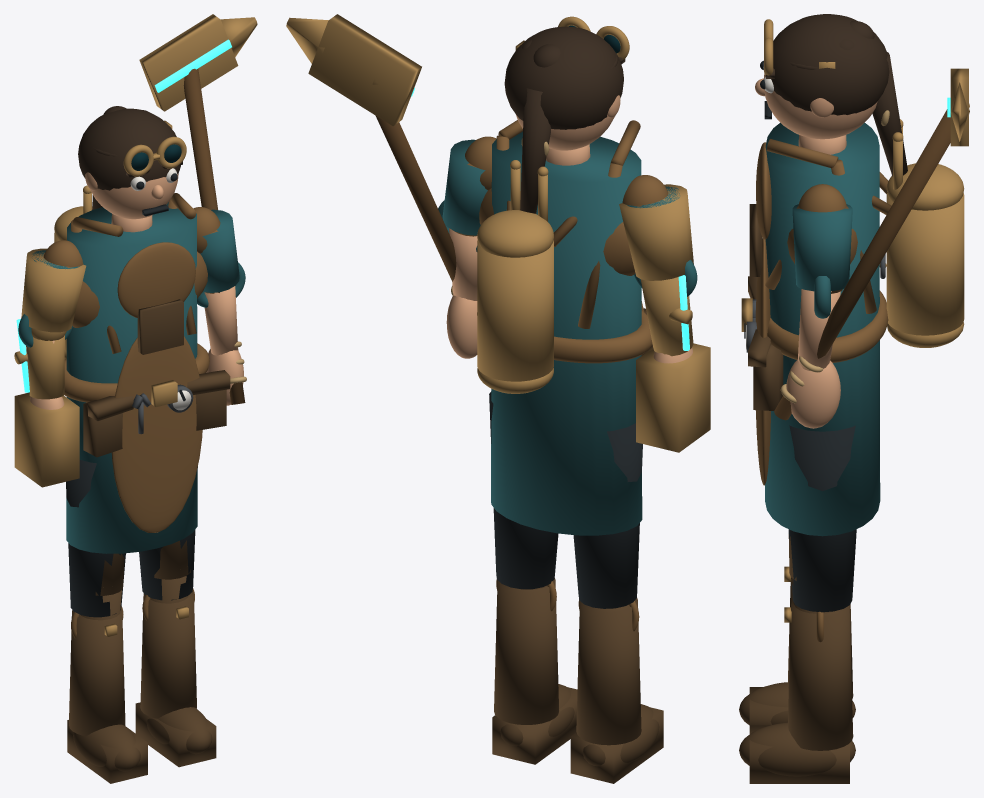
The model's file is 3D模型 char_tinkerer.glb.
3 renders of one model, left to right at view 1: azimuth 30°, elevation 25°; view 2: azimuth 150°, elevation 25°; view 3: azimuth 270°, elevation 25°, orthographic. The views are drawn at different scales.
Parts seen in each view (by area): view 1: char_tinkerer_shirt, char_tinkerer_apronpanel, char_tinkerer_boot_L, char_tinkerer_boot_R, char_tinkerer_mechhand_L, char_tinkerer_hair, char_tinkerer_pickhead, char_tinkerer_apronbib, char_tinkerer_mechU_L, char_tinkerer_pant_L, char_tinkerer_pickshaft, char_tinkerer_sleeve_R (+28 smaller); view 2: char_tinkerer_shirt, char_tinkerer_tank, char_tinkerer_hair, char_tinkerer_boot_L, char_tinkerer_boot_R, char_tinkerer_pickhead, char_tinkerer_mechhand_L, char_tinkerer_pant_L, char_tinkerer_mechU_L, char_tinkerer_pant_R, char_tinkerer_pickshaft, char_tinkerer_tanktop (+17 smaller); view 3: char_tinkerer_shirt, char_tinkerer_tank, char_tinkerer_hair, char_tinkerer_boot_R, char_tinkerer_pant_R, char_tinkerer_pickshaft, char_tinkerer_sleeve_R, char_tinkerer_bootfoot_R, char_tinkerer_hand_R, char_tinkerer_head, char_tinkerer_belt, char_tinkerer_foot_R (+19 smaller).
Part boxes in pixels (<box>): char_tinkerer_shirt: <box>66,202,197,553</box>; char_tinkerer_apronpanel: <box>111,336,202,532</box>; char_tinkerer_boot_L: <box>69,608,125,736</box>; char_tinkerer_boot_R: <box>140,591,196,718</box>; char_tinkerer_mechhand_L: <box>14,392,79,487</box>; char_tinkerer_hair: <box>78,108,180,190</box>; char_tinkerer_pickhead: <box>139,14,238,111</box>; char_tinkerer_apronbib: <box>117,242,195,317</box>; char_tinkerer_mechU_L: <box>21,248,86,332</box>; char_tinkerer_pant_L: <box>66,460,125,617</box>; char_tinkerer_pickshaft: <box>183,68,245,404</box>; char_tinkerer_sleeve_R: <box>200,209,239,292</box>; char_tinkerer_shirt: <box>491,131,642,535</box>; char_tinkerer_tank: <box>477,240,553,381</box>; char_tinkerer_hair: <box>504,26,623,129</box>; char_tinkerer_boot_L: <box>576,598,641,745</box>; char_tinkerer_boot_R: <box>494,578,558,724</box>; char_tinkerer_pickhead: <box>308,14,421,126</box>; char_tinkerer_mechhand_L: <box>636,343,710,452</box>; char_tinkerer_pant_L: <box>573,423,642,608</box>; char_tinkerer_mechU_L: <box>619,184,693,280</box>; char_tinkerer_pant_R: <box>489,391,558,589</box>; char_tinkerer_pickshaft: <box>375,115,456,281</box>; char_tinkerer_tanktop: <box>477,210,553,257</box>; char_tinkerer_shirt: <box>765,122,880,536</box>; char_tinkerer_tank: <box>886,193,964,335</box>; char_tinkerer_hair: <box>765,14,889,115</box>; char_tinkerer_boot_R: <box>787,601,853,750</box>; char_tinkerer_pant_R: <box>788,425,856,612</box>; char_tinkerer_pickshaft: <box>774,109,950,420</box>; char_tinkerer_sleeve_R: <box>792,204,852,291</box>; char_tinkerer_bootfoot_R: <box>739,722,855,776</box>; char_tinkerer_hand_R: <box>786,359,840,428</box>; char_tinkerer_head: <box>763,74,877,139</box>; char_tinkerer_belt: <box>767,290,888,362</box>; char_tinkerer_foot_R: <box>749,725,849,783</box>.
Bounding box in the file's own units: 0.8721 × 1.83 × 0.5055.
